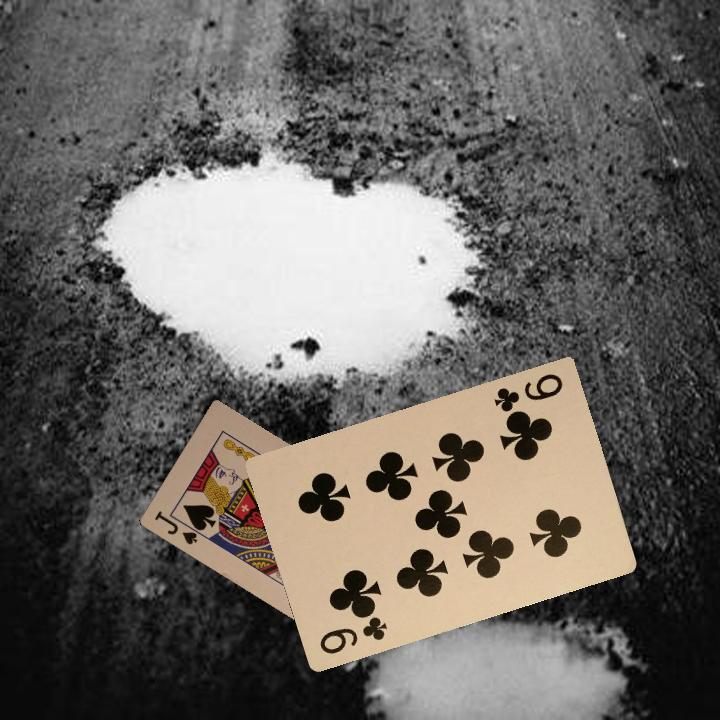9c: (315, 609, 390, 657), (490, 369, 566, 415)
Js: (150, 507, 203, 547)
